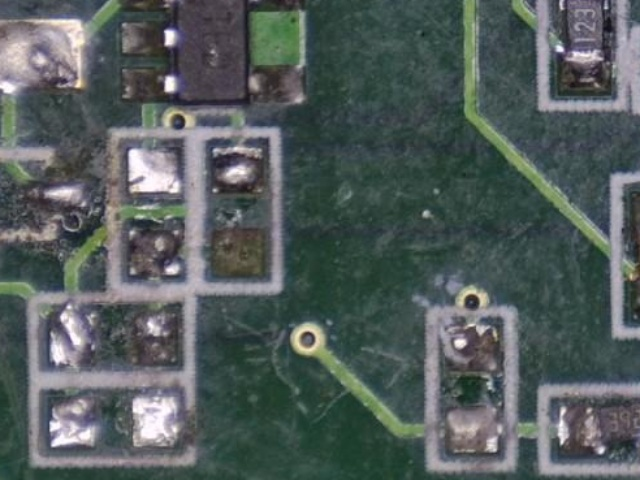pcb_defect: (558, 396, 640, 456)
